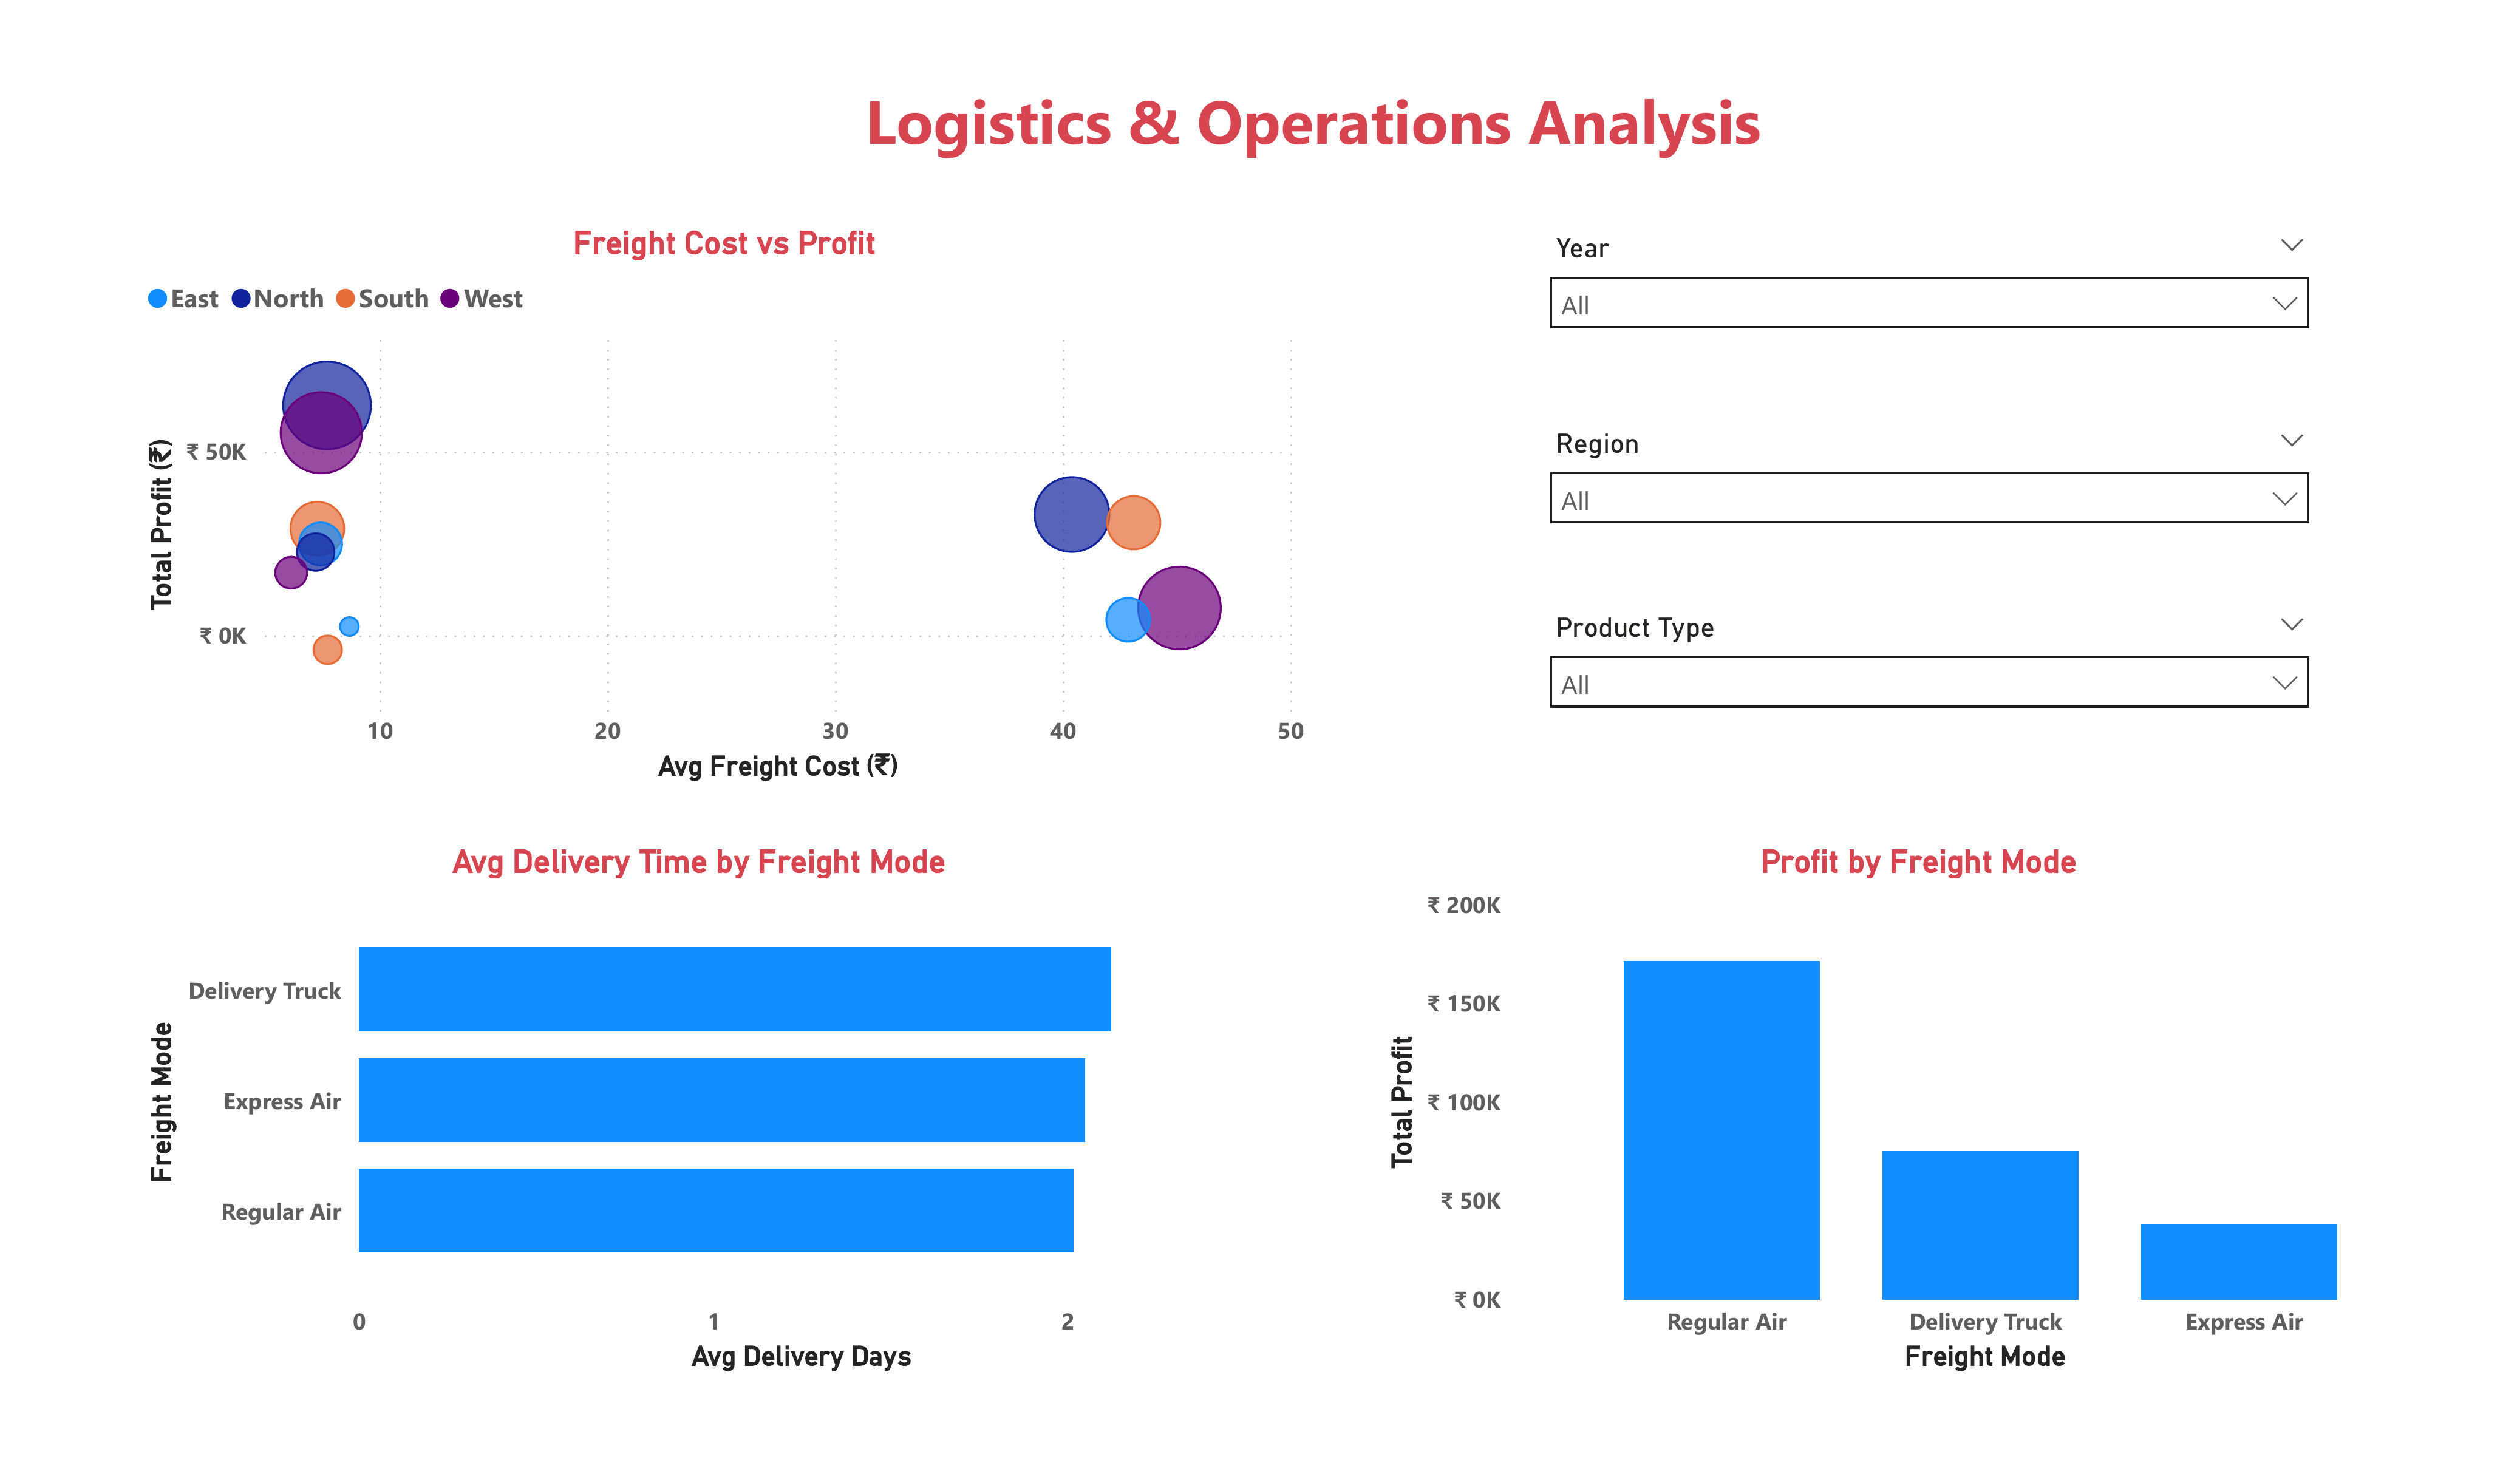

What the dashboard file says about the page in this screenshot:
{"tool":"powerbi","page":{"name":"Logistics","canvas":[1280,720],"ordinal":3},"visuals":[{"type":"clusteredBarChart","title":"Avg Delivery Time by Freight Mode","fields":{"Category":["Fact_Retail_Sales.Freight Mode"],"Y":["Measure.Avg Delivery Days"]},"box":[47.9,420.4,593,283.7],"z":0},{"type":"clusteredColumnChart","title":"Profit by Freight Mode","fields":{"Category":["Fact_Retail_Sales.Freight Mode"],"Y":["Measure.Total Profit"]},"box":[702.4,420.4,570.8,283.7],"z":1000},{"type":"scatterChart","title":"Freight Cost vs Profit","fields":{"X":["Measure.Avg Freight Expenses"],"Y":["Measure.Total Profit"],"Size":["Measure.Total Sales"],"Series":["Dim_Geography.Region"],"Category":["Fact_Retail_Sales.Freight Mode"]},"box":[47.9,94,620.3,299.1],"z":2000},{"type":"slicer","fields":{"Values":["Dim_Date.Year"]},"box":[782.7,94,420.4,66.6],"z":3000},{"type":"slicer","fields":{"Values":["Dim_Geography.Region"]},"box":[782.7,196.5,420.4,66.6],"z":4000},{"type":"slicer","fields":{"Values":["Dim_Product.Product Type"]},"box":[782.7,293.9,420.4,66.6],"z":5000},{"type":"textbox","box":[42.7,12,1189.4,59.8],"z":6000}]}

Visuals, with their boxes on the page's 1280x720 design canvas (x1, y1, x2, y2). These are canvas units, not pixel positions in the 2520x1457 screenshot, which may show the page scaled, cropped or inside an application window:
"Avg Delivery Time by Freight Mode" clusteredBarChart: left=48, top=420, right=641, bottom=704
"Profit by Freight Mode" clusteredColumnChart: left=702, top=420, right=1273, bottom=704
"Freight Cost vs Profit" scatterChart: left=48, top=94, right=668, bottom=393
slicer - Dim_Date.Year: left=783, top=94, right=1203, bottom=161
slicer - Dim_Geography.Region: left=783, top=196, right=1203, bottom=263
slicer - Dim_Product.Product Type: left=783, top=294, right=1203, bottom=360
textbox: left=43, top=12, right=1232, bottom=72
